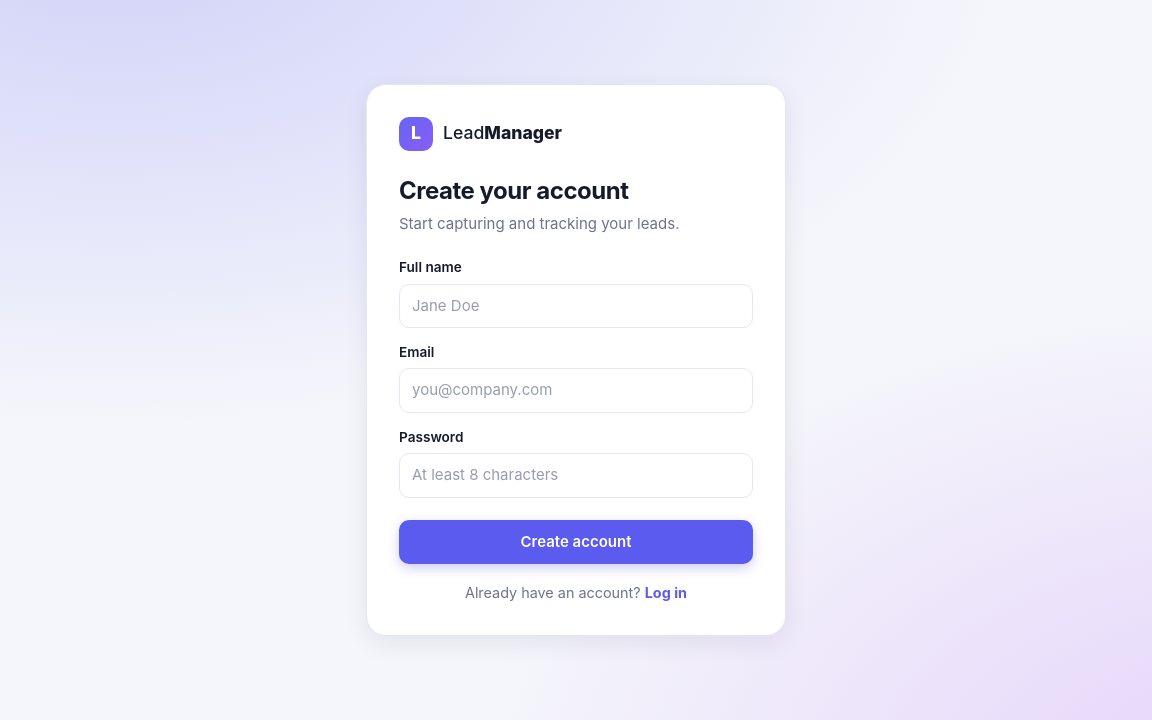
Test: Signup › validates name, email and password length
The image size is (1152, 720).
In the field labelled "Email": (576, 391) [399,368,753,413], type "nope"
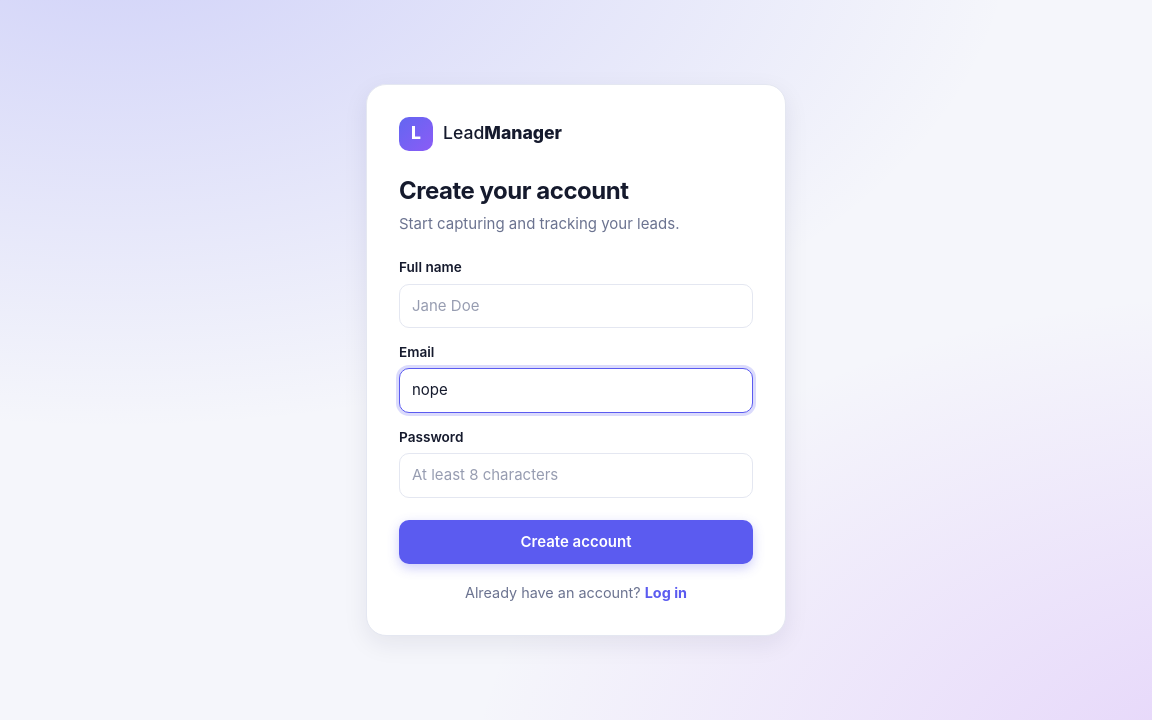
In the password field labelled "Password": (576, 476) [399,453,753,498], type "123"
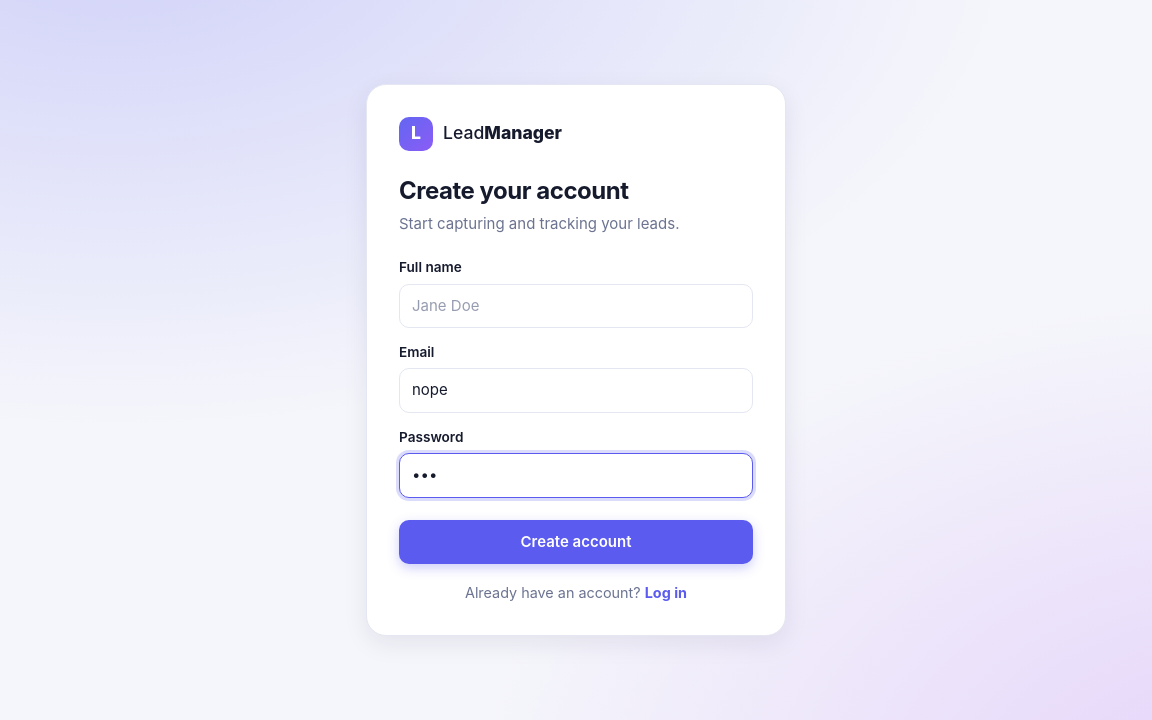
Click the button "Create account": click(576, 542) [399,520,753,564]
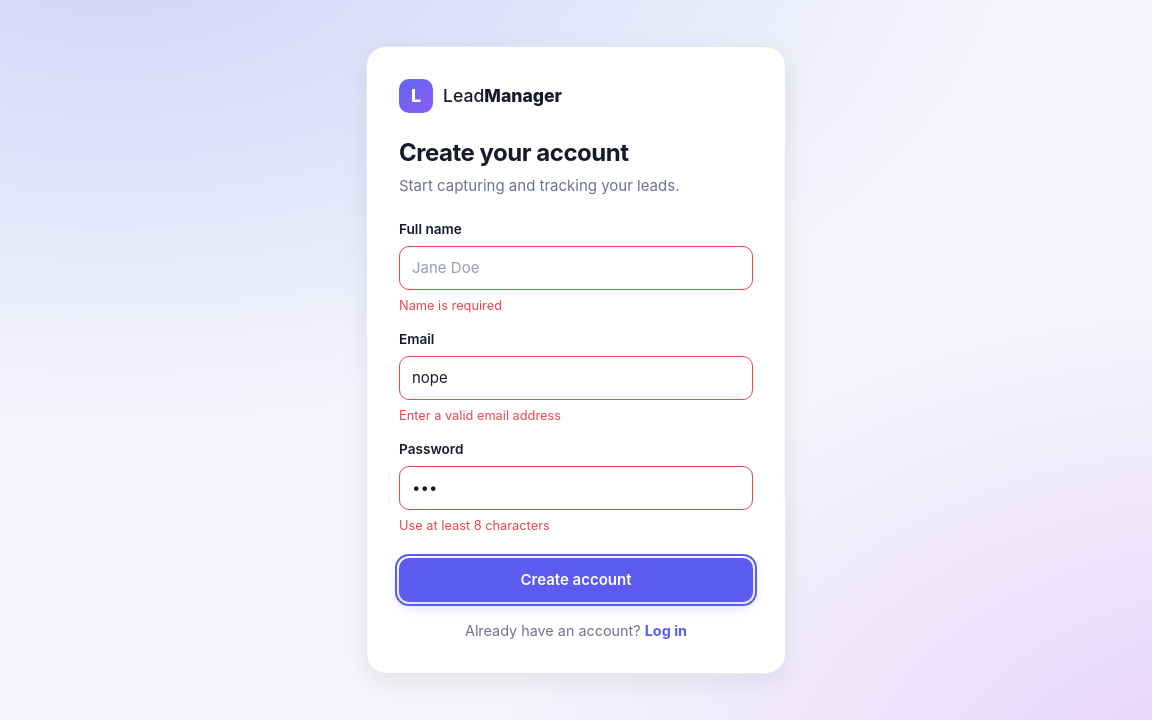
Result: the text "Name is required" is shown at [399,298,502,313]
Result: the text "Enter a valid email address" is shown at [399,408,561,423]
Result: the text "Use at least 8 characters" is shown at [399,518,550,533]
